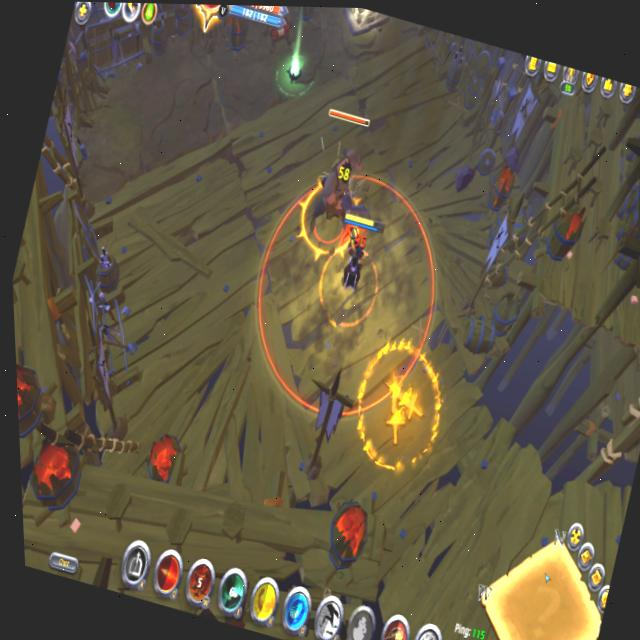ore: (281, 95, 385, 270)
red: (316, 202, 395, 304)
silver: (258, 169, 437, 421), (318, 237, 378, 329)
